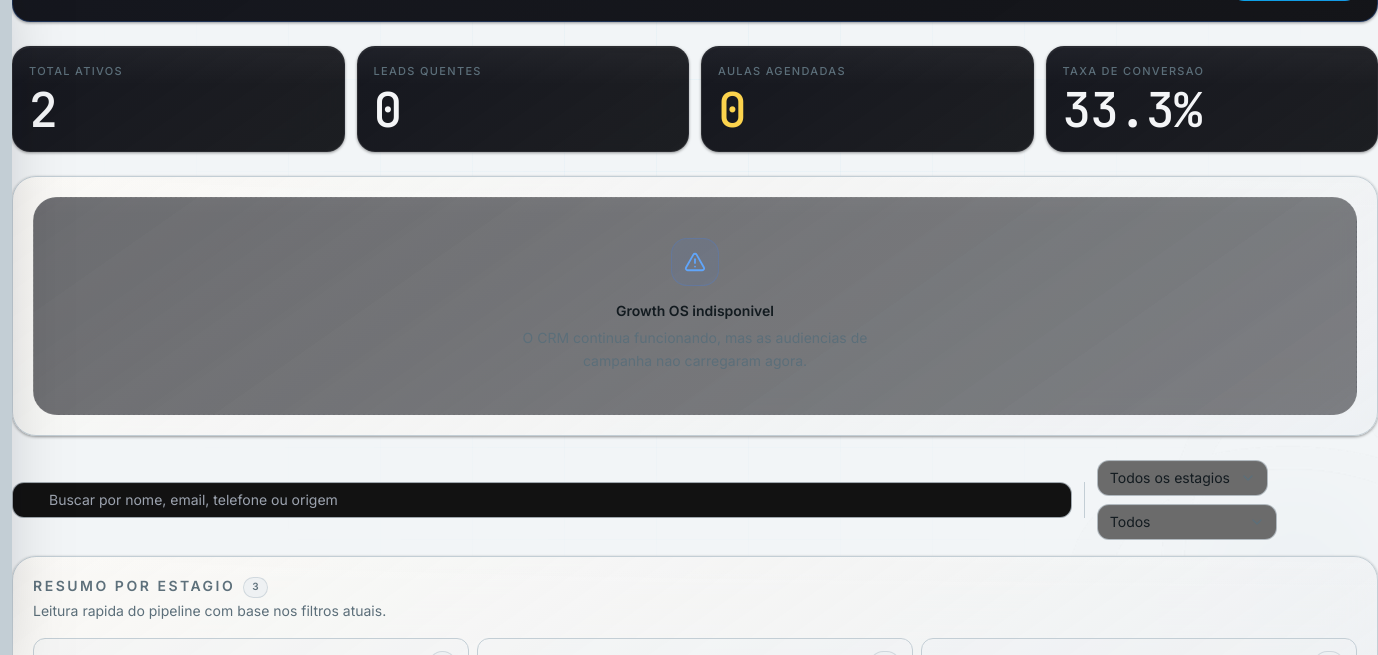
Test: CrmPage › filters by stage/contact and clears all filters
Select "Proposta" in the dropdown named "Estagio" at (1182, 478), box [1097,460,1268,496]
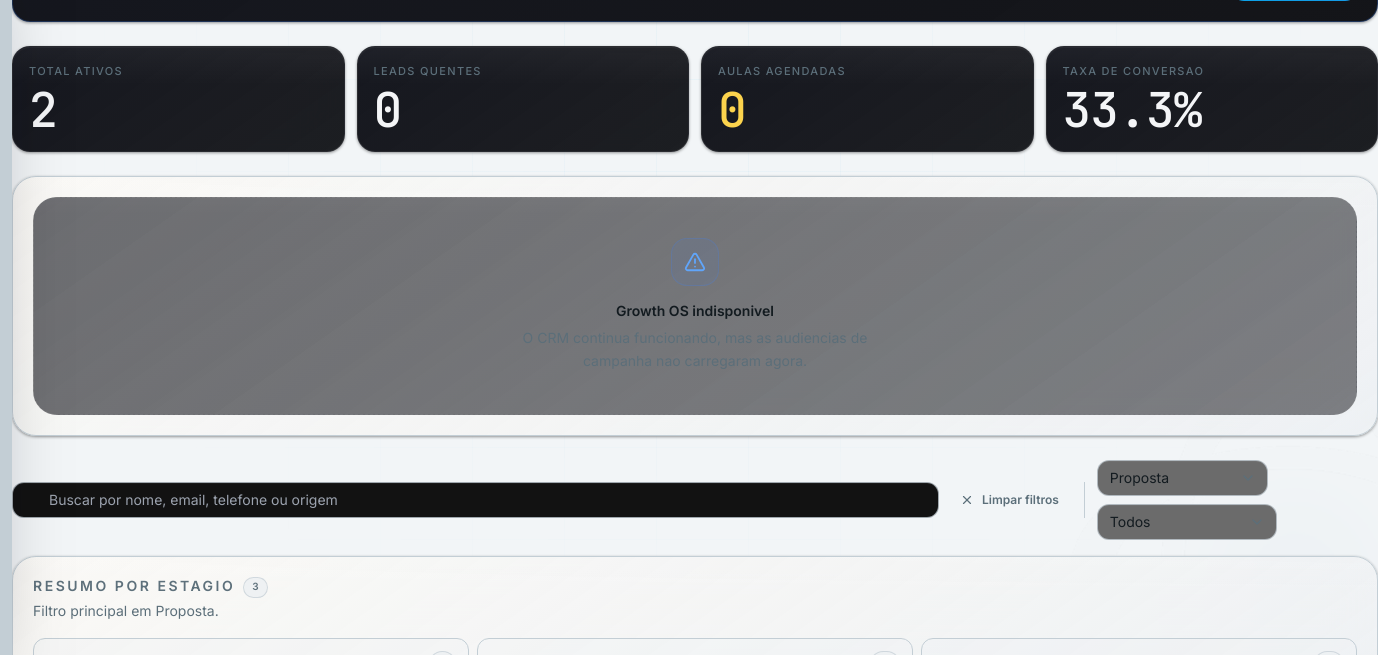
Select "Sem contato ha 7 dias" in the dropdown named "Contato" at (1187, 522), box [1097,504,1277,540]
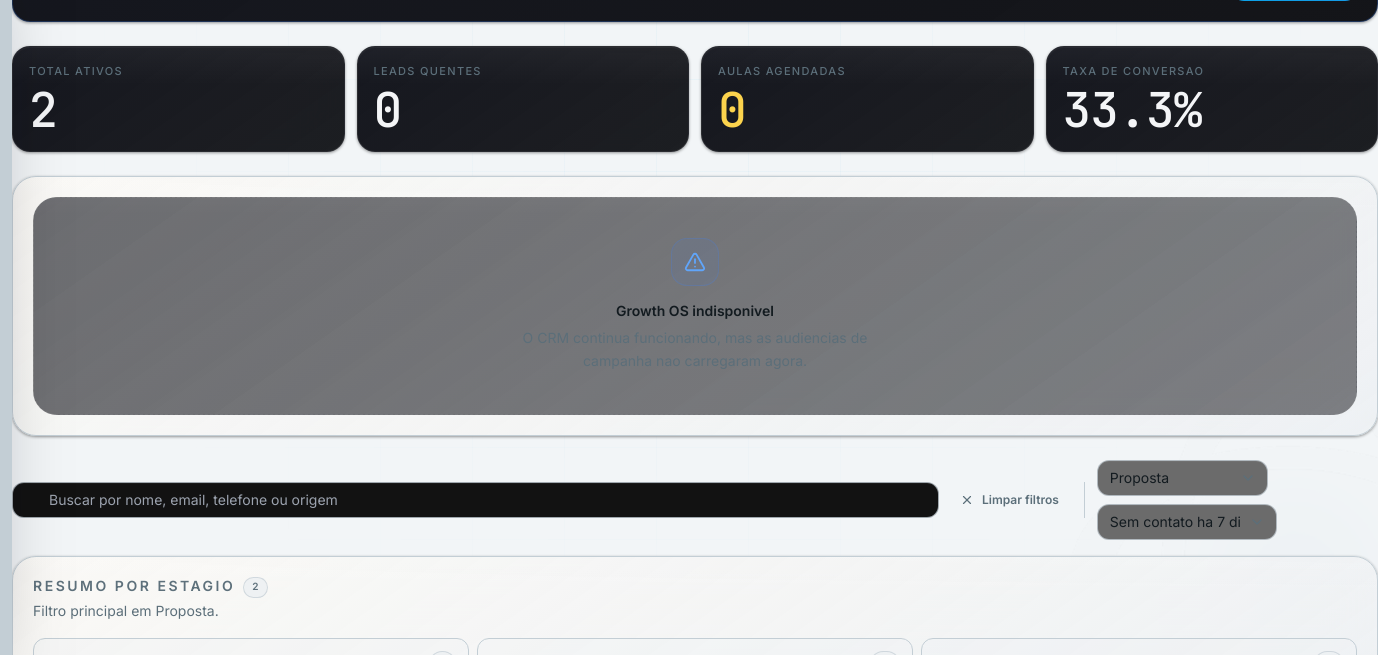
Check: the text "Ana Silva" is not shown
Click the button "Limpar filtros" at (1009, 500), box [947,482,1072,518]
(page scrolled)
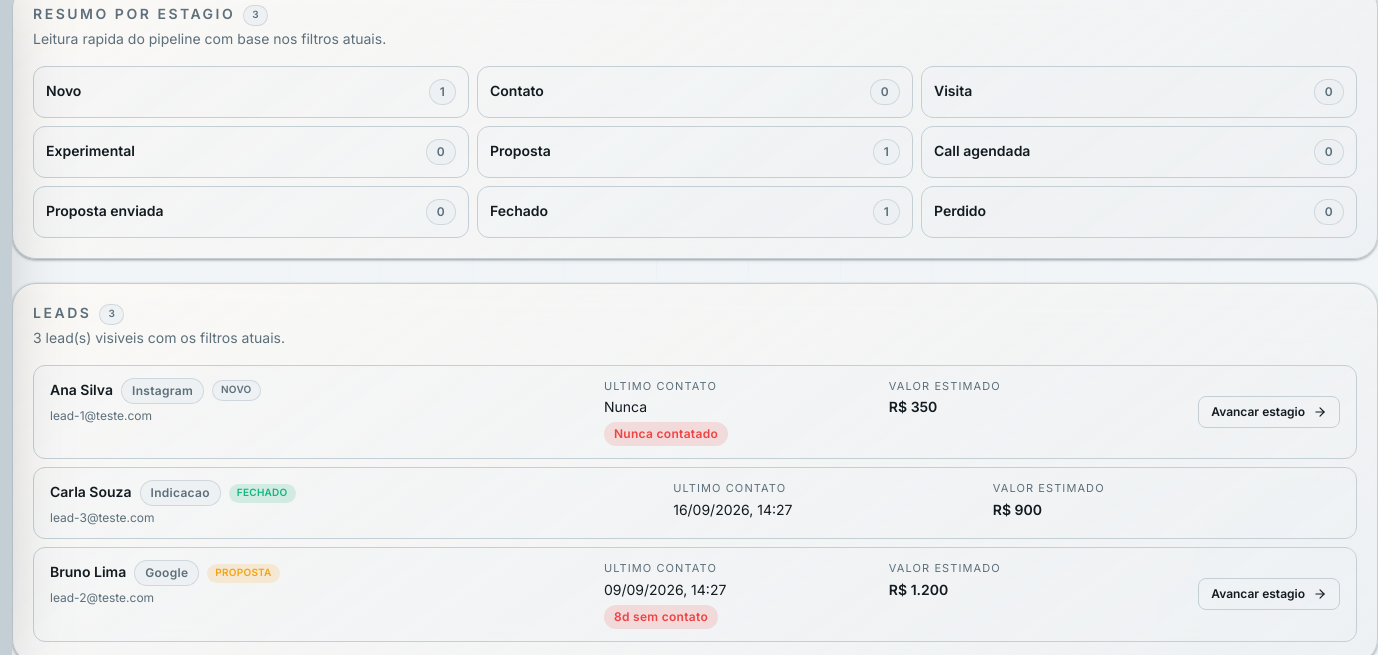
Check: the text "Bruno Lima" is shown, box [50,563,126,583]
Check: the text "Ana Silva" is shown, box [50,380,113,400]
